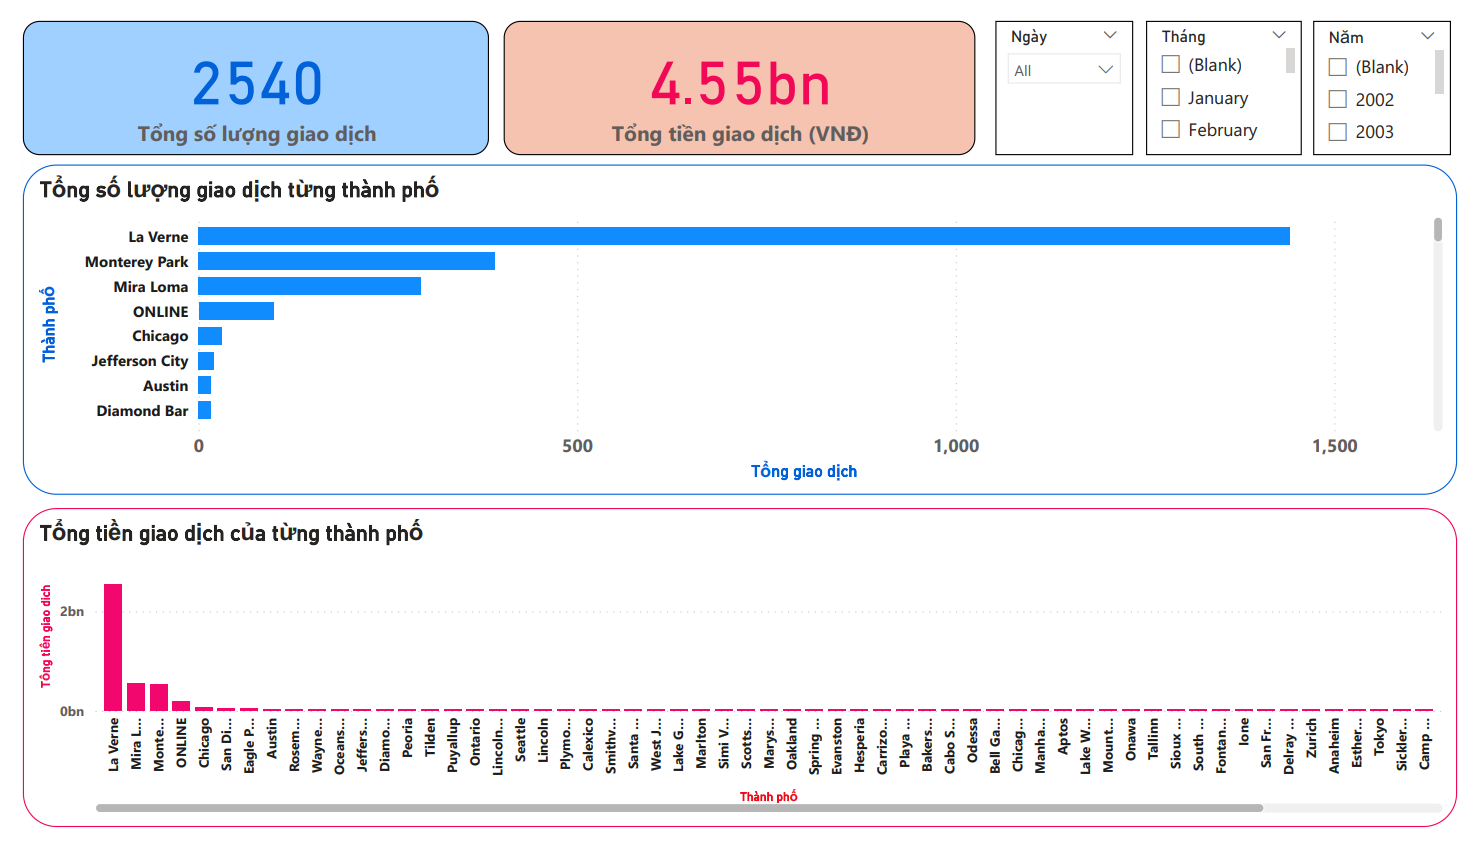

The page's visual inventory and layout, read from the dashboard file:
{"tool":"powerbi","page":{"name":"Page 1","canvas":[1280,720],"ordinal":0},"visuals":[{"type":"clusteredBarChart","title":"Tổng số lượng giao dịch từng thành phố","fields":{"Category":["Query1.Merchanant City"],"Y":["CountNonNull(Query1.User)"]},"box":[0,128.8,1280,295],"z":0},{"type":"slicer","fields":{"Values":["Query1.Date.Variation.Date Hierarchy.Year"]},"box":[1151.2,0,122.5,120],"z":1000},{"type":"slicer","fields":{"Values":["Query1.Date.Variation.Date Hierarchy.Month"]},"box":[1002.5,0,138.8,120],"z":2000},{"type":"slicer","fields":{"Values":["Query1.Date.Variation.Date Hierarchy.Day"]},"box":[867.5,0,122.5,120],"z":3000},{"type":"lineClusteredColumnComboChart","title":"Tổng tiền giao dịch của từng thành phố","fields":{"Category":["Query1.Merchanant City"],"Y":["Sum(Query1.Amount_VND)"]},"box":[0,435,1280,285],"z":4000},{"type":"card","fields":{"Values":["Sum(Query1.Amount_VND)"]},"box":[428.8,0,421.2,120],"z":5000},{"type":"card","fields":{"Values":["CountNonNull(Query1.Card)"]},"box":[0,0,416.2,120],"z":6000}]}

Visuals, with their boxes in screenshot pixels (x1, y1, x2, y2), scaled from the page's 1280x720 canvas onto the 1472x845 screenshot:
"Tổng số lượng giao dịch từng thành phố" clusteredBarChart: bbox=[0, 151, 1471, 497]
slicer - Query1.Date.Variation.Date Hierarchy.Year: bbox=[1324, 0, 1465, 141]
slicer - Query1.Date.Variation.Date Hierarchy.Month: bbox=[1153, 0, 1312, 141]
slicer - Query1.Date.Variation.Date Hierarchy.Day: bbox=[998, 0, 1138, 141]
"Tổng tiền giao dịch của từng thành phố" lineClusteredColumnComboChart: bbox=[0, 511, 1471, 844]
card - Sum(Query1.Amount_VND): bbox=[493, 0, 977, 141]
card - CountNonNull(Query1.Card): bbox=[0, 0, 479, 141]
